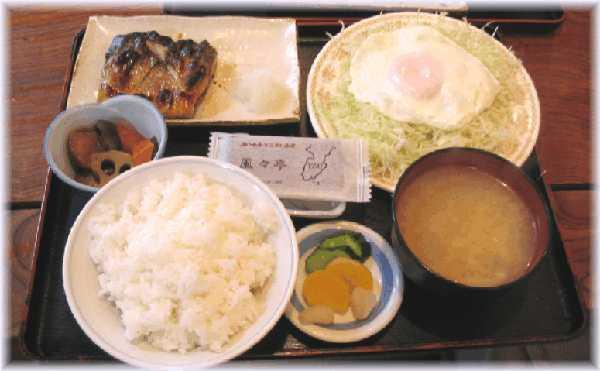rice: (88, 172, 279, 353)
